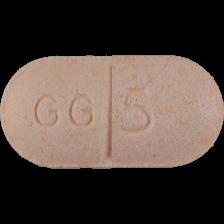0781-5180: (0, 0, 224, 224)
